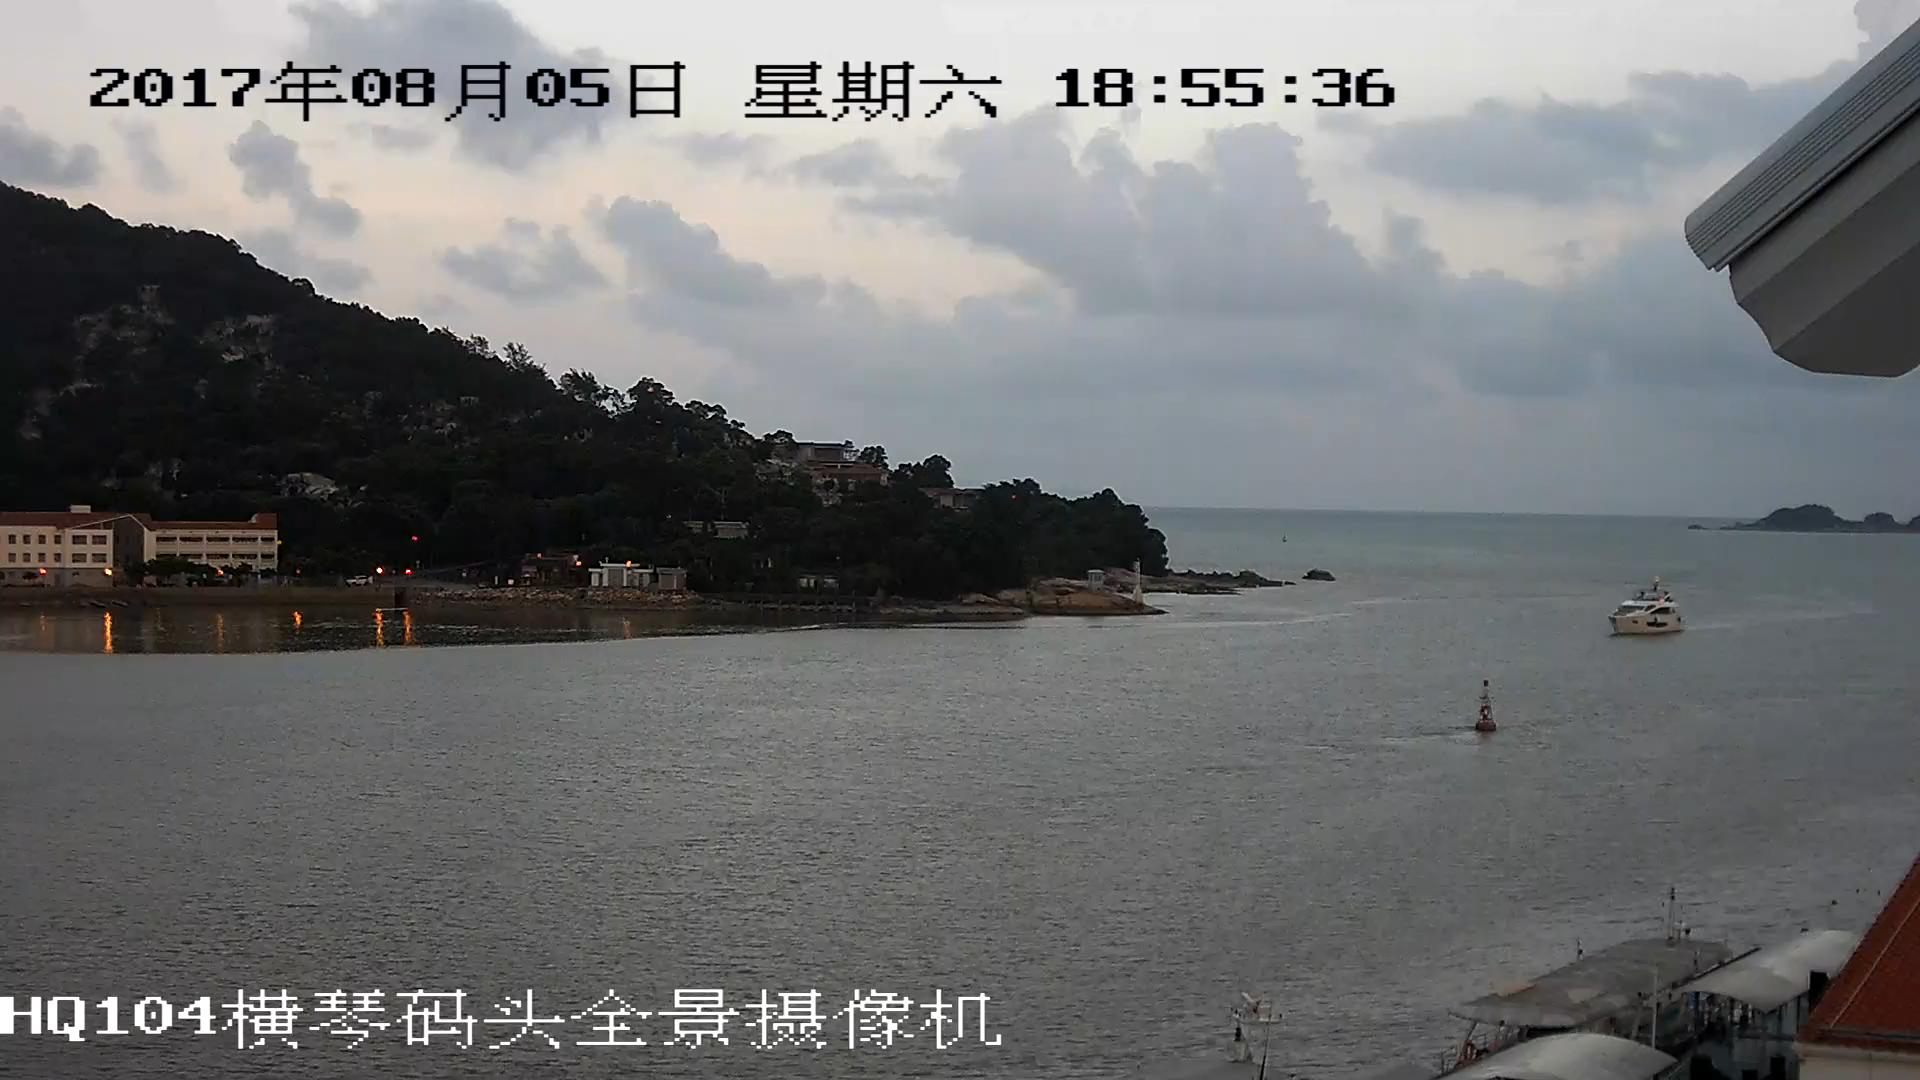passenger ship: (1607, 583, 1684, 635)
